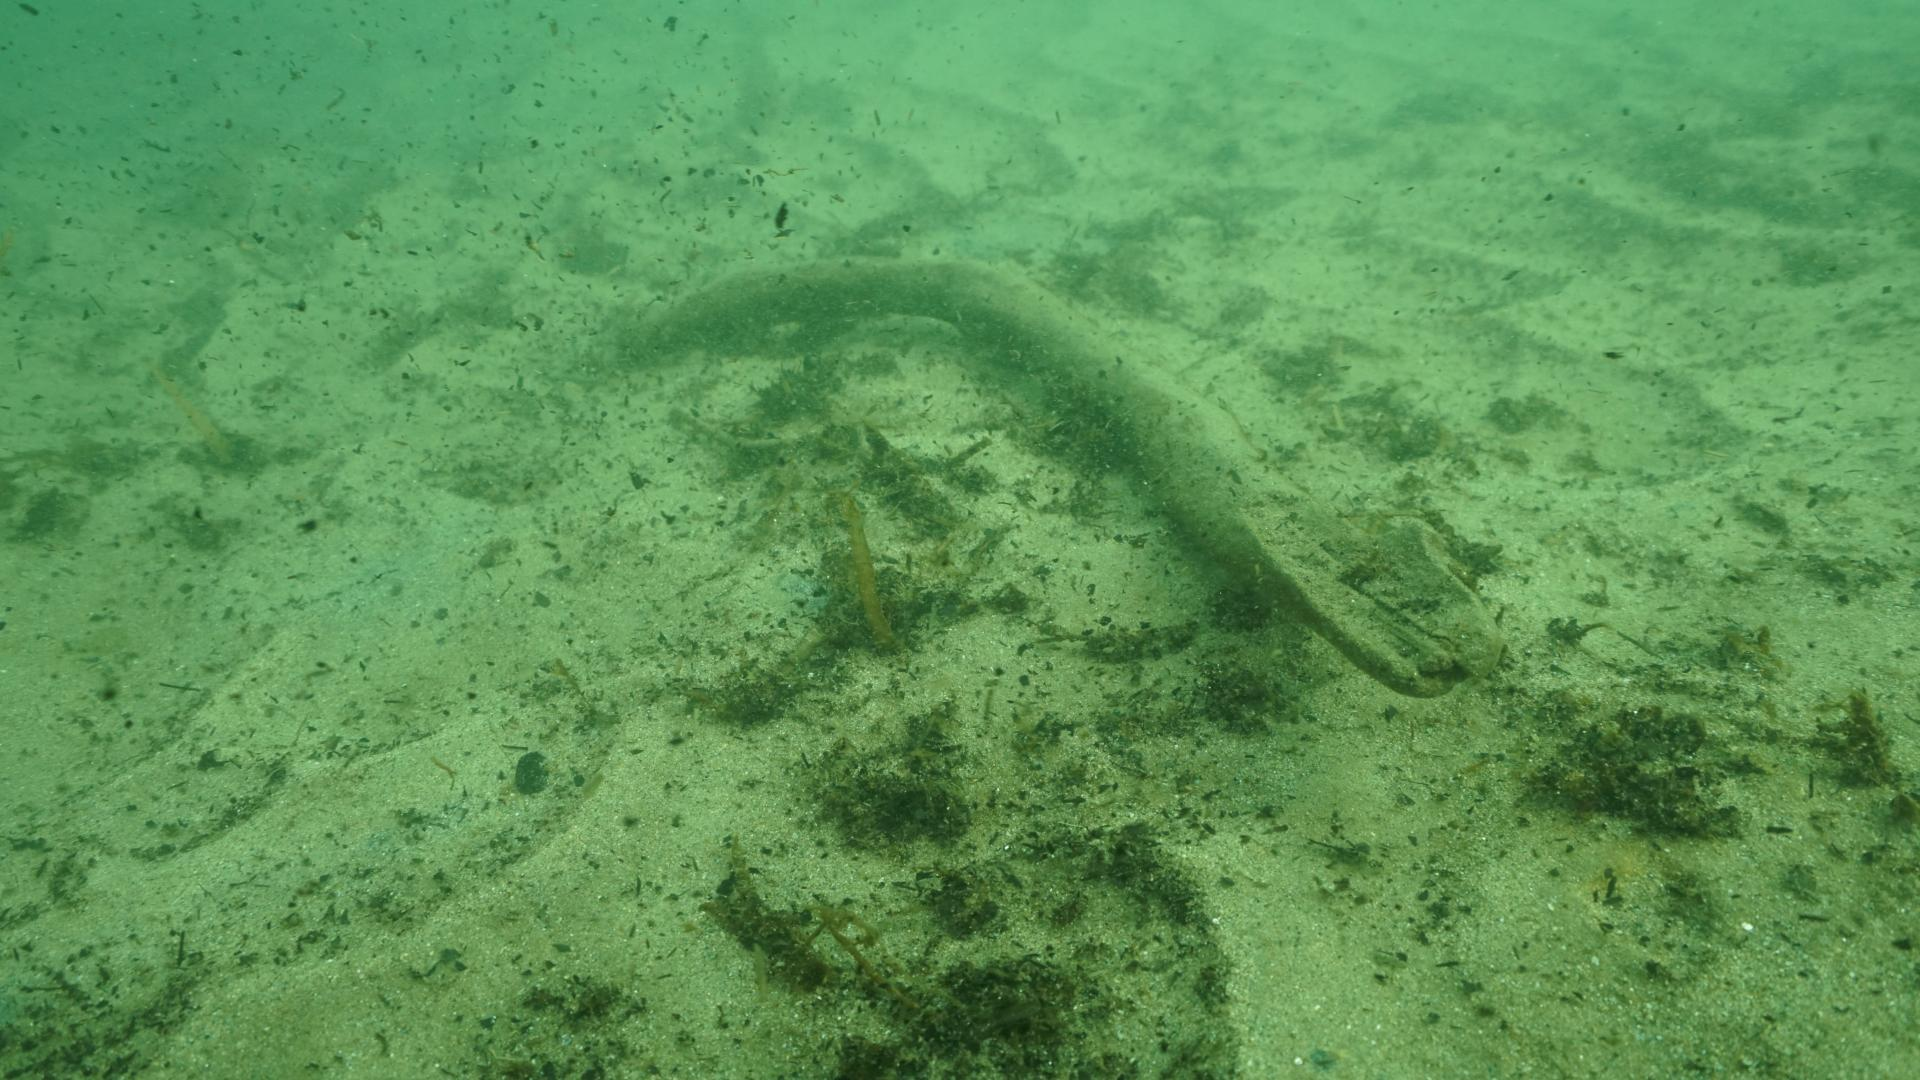wood: (625, 255, 1477, 698)
